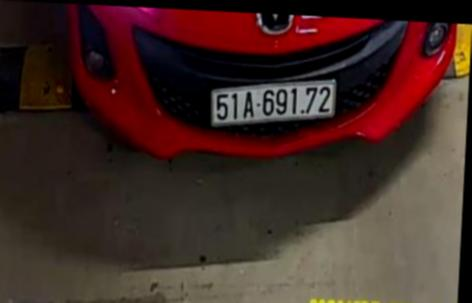License_Plate: (208, 65, 343, 135)
